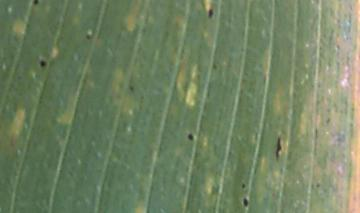tarspot: (273, 134, 286, 163), (206, 5, 219, 22), (238, 196, 253, 209), (183, 132, 199, 143), (38, 57, 50, 71), (84, 32, 92, 43), (28, 1, 42, 6), (240, 182, 248, 190)
